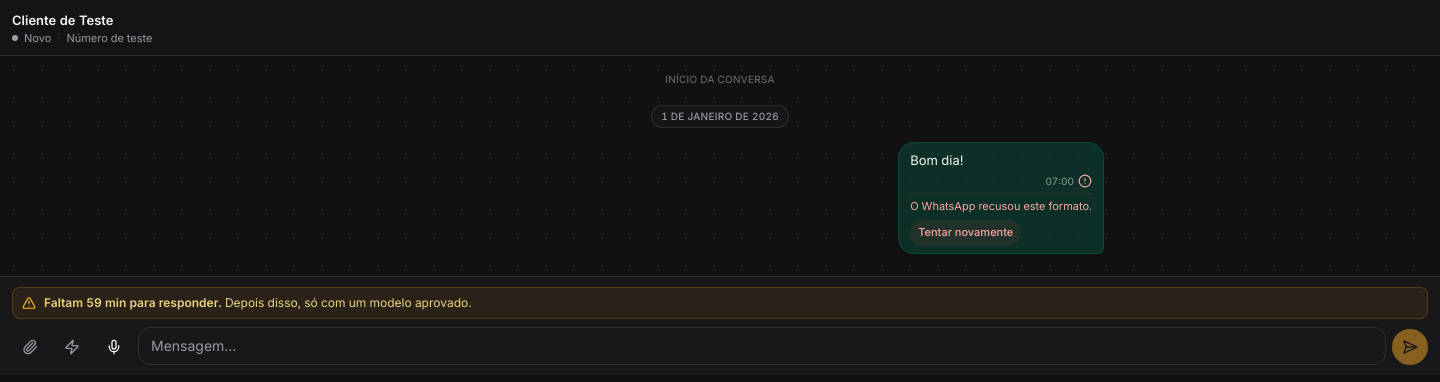
Scenario: MessageThread — reenvio › versão desatualizada atualiza a tela com o estado real, sem duplicar
Click the button "Tentar novamente". click: (966, 233)
box: [910,220,1021,246]
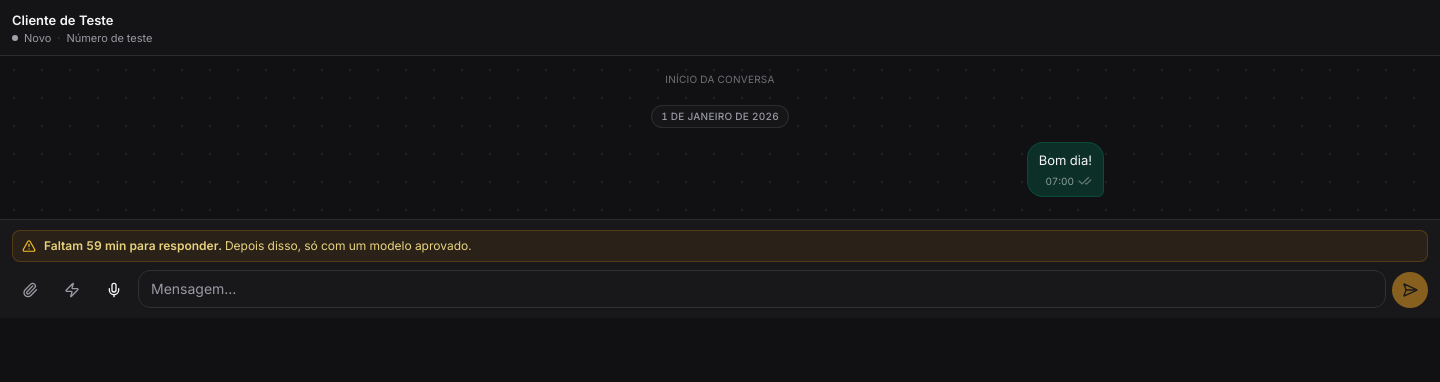
Check: the text "Bom dia!" is shown once, box [1039,150,1092,171]
Check: the button "Tentar novamente" is gone
